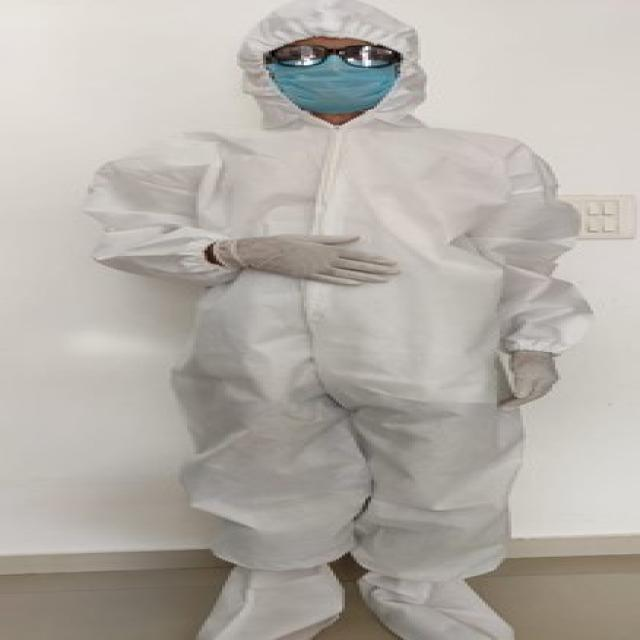Coverall: (73, 0, 628, 640)
Gloves: (210, 230, 400, 287), (497, 348, 570, 411)
Goggles: (258, 41, 400, 69)
Mask: (260, 60, 403, 113)
